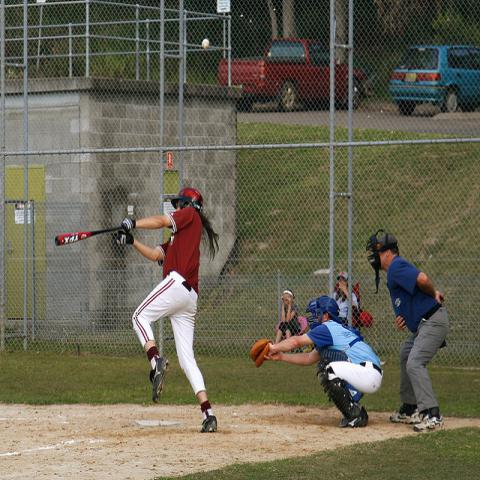car: (387, 46, 479, 116)
truck: (217, 38, 373, 114)
